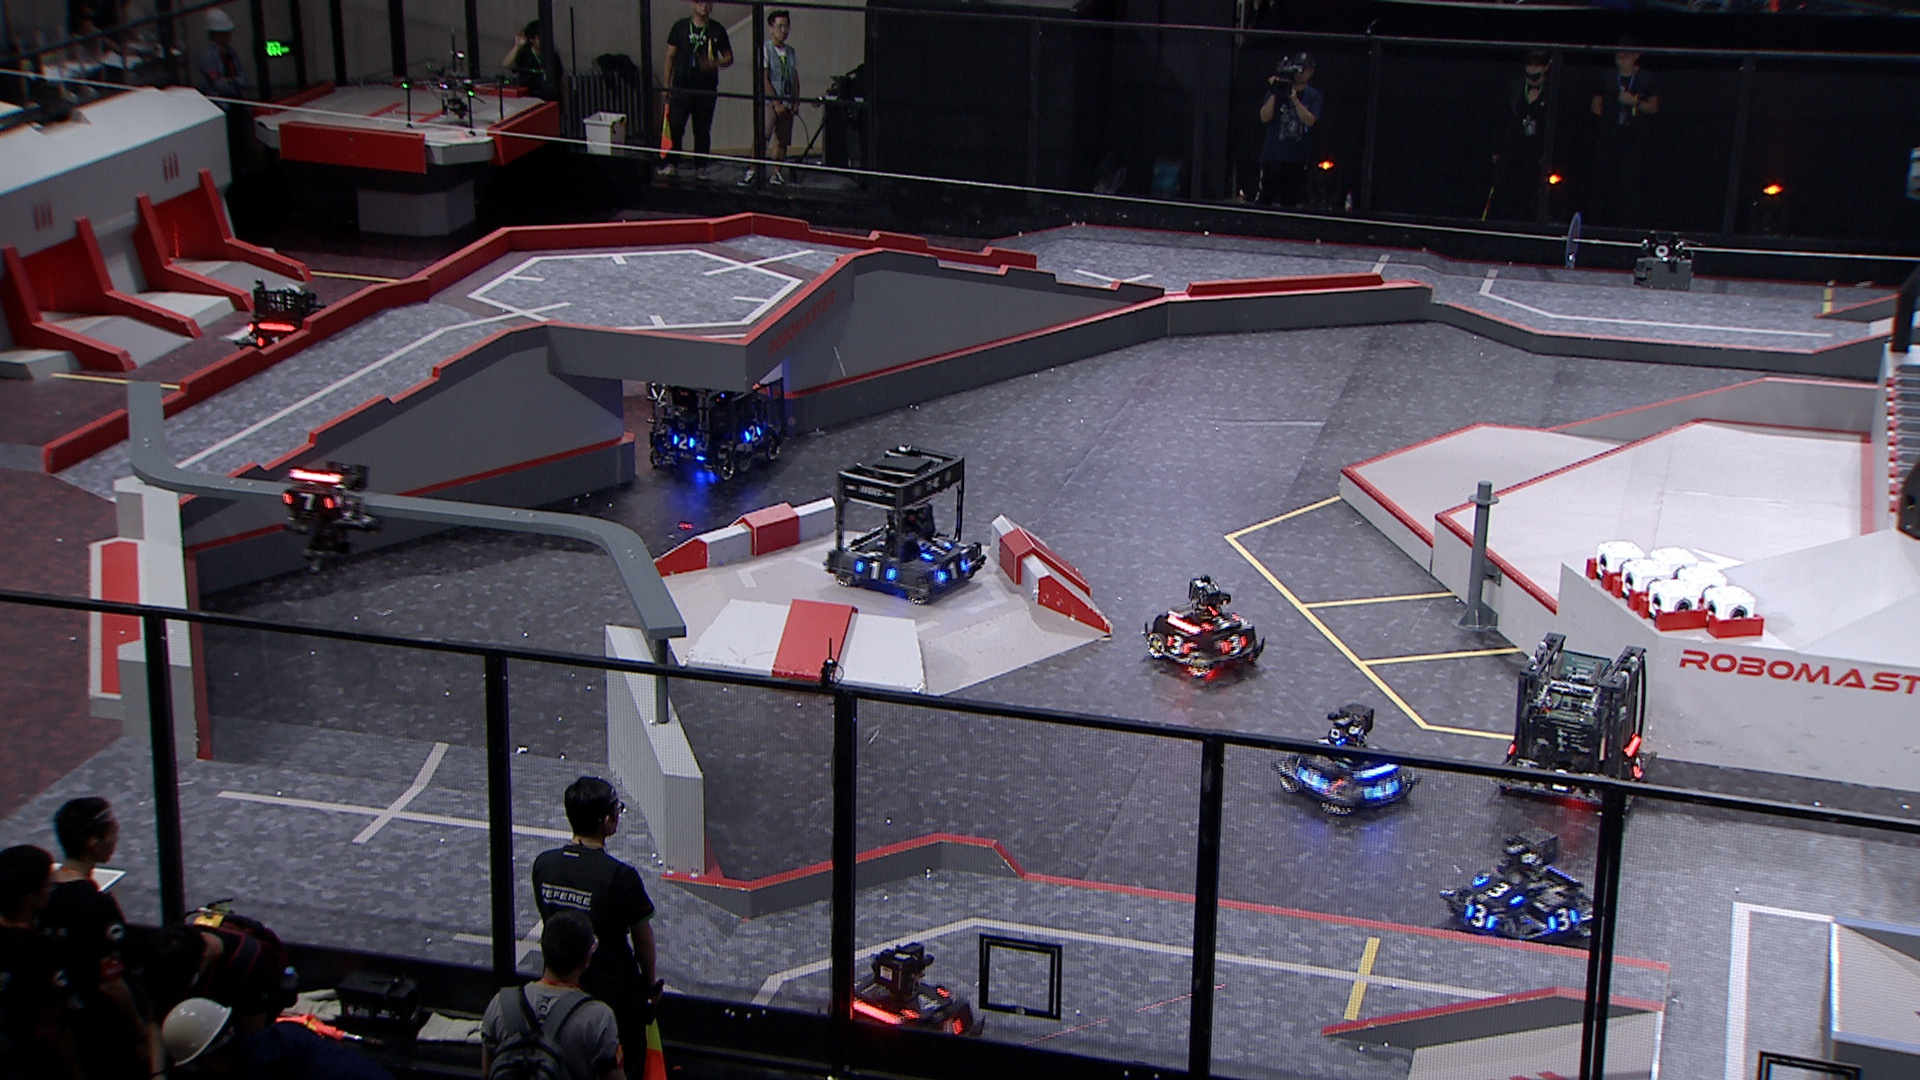armor: (905, 986, 945, 1021), (280, 491, 334, 512), (1477, 878, 1519, 903), (1538, 765, 1575, 789), (1295, 769, 1329, 794), (856, 559, 894, 582), (1461, 906, 1494, 931), (1547, 909, 1576, 934), (938, 560, 971, 580), (1163, 632, 1188, 655), (923, 538, 949, 560), (940, 1015, 964, 1038), (1207, 612, 1233, 632), (1371, 779, 1399, 798), (1220, 636, 1247, 651), (671, 433, 694, 451), (256, 332, 277, 348), (1631, 754, 1643, 782), (744, 425, 764, 440)
car: (1493, 632, 1651, 815), (823, 443, 986, 604), (636, 345, 796, 481), (1439, 828, 1604, 953), (835, 935, 981, 1065), (1276, 702, 1427, 815), (1139, 571, 1269, 679), (233, 278, 338, 377)
watcher: (276, 458, 384, 583)
